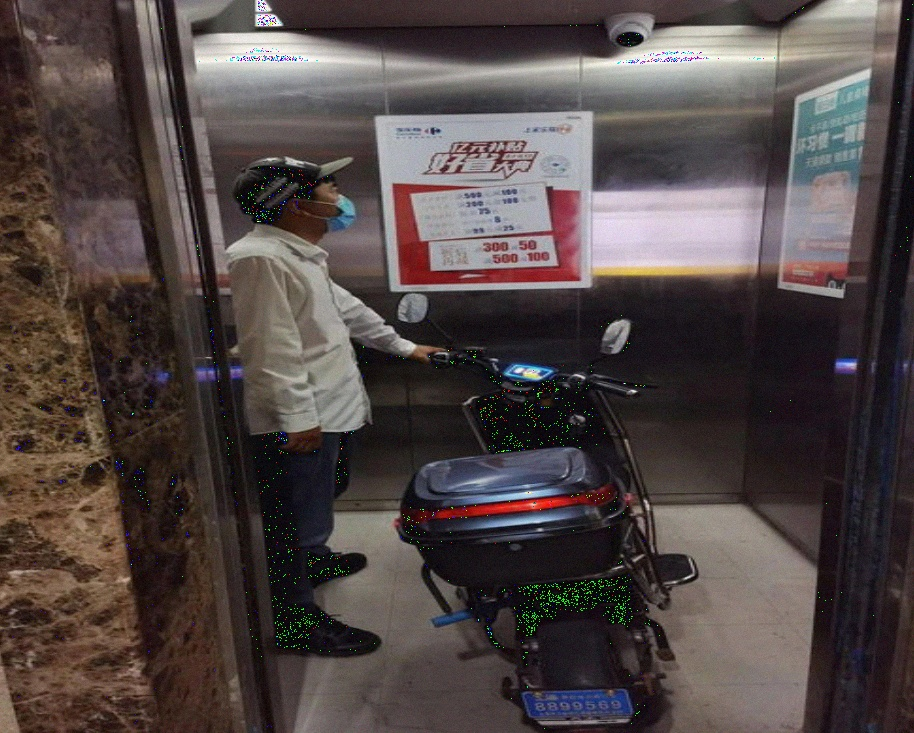ebike: (402, 292, 702, 727)
person: (226, 152, 421, 656)
